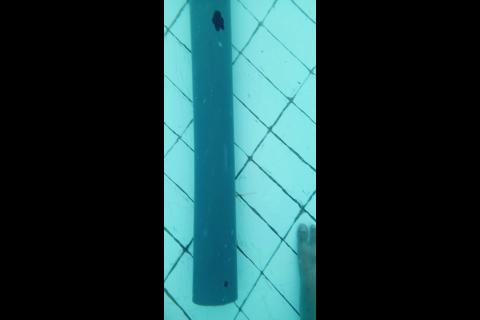kebocoran: (211, 9, 225, 31)
